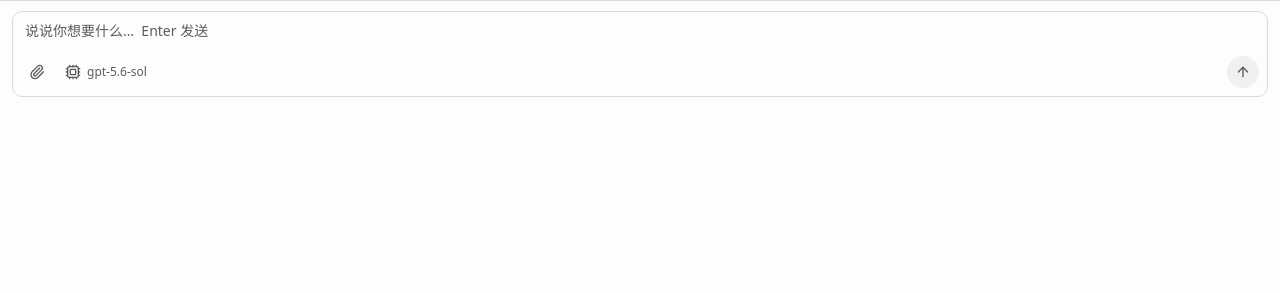
Test: model command › shows only the effort levels configured for the current model
Type "你好" into the text box with test id "composer" at [640, 34], box [13,12,1267,56]
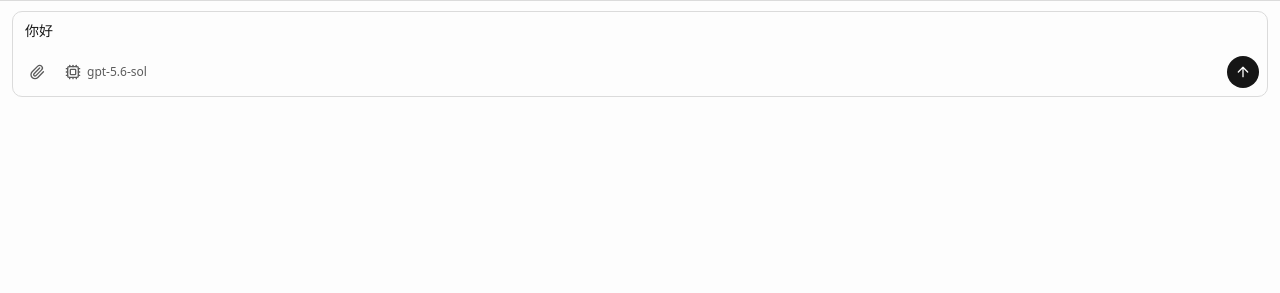
Press the mouse on the button with test id "model-control" at [106, 72], box [57,56,155,88]
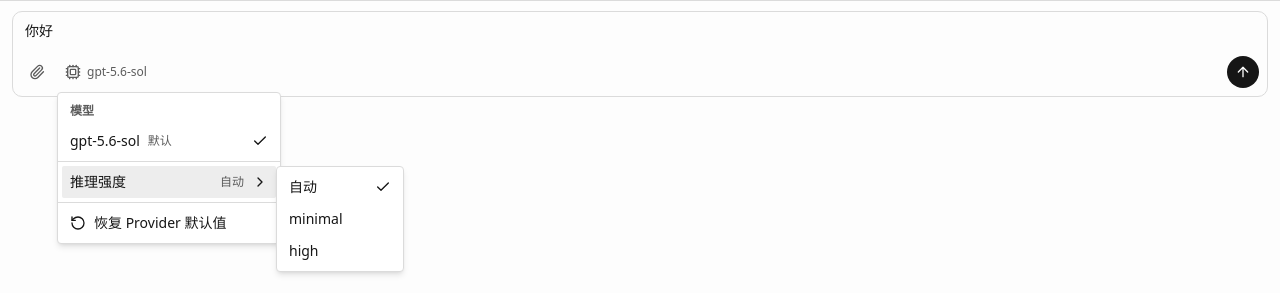
Check: the menu item "minimal" is shown, box [289,209,342,228]
Check: the menu item "high" is shown, box [289,241,318,260]
